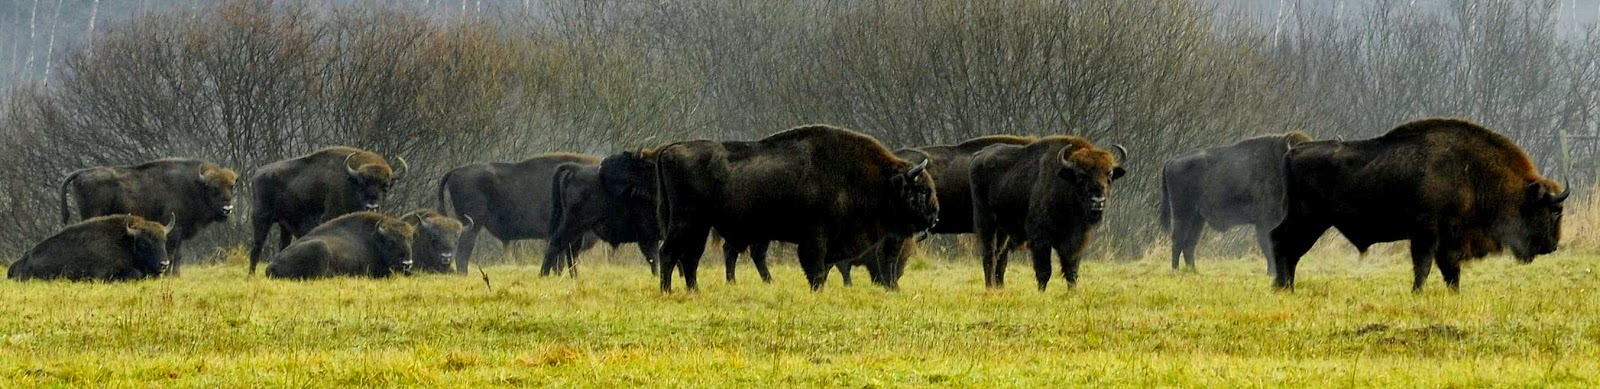zubr: (1280, 120, 1589, 323), (719, 108, 947, 302), (947, 114, 1138, 293), (10, 202, 186, 317), (50, 144, 238, 250), (250, 141, 416, 253), (1165, 150, 1304, 265), (265, 208, 428, 305)
